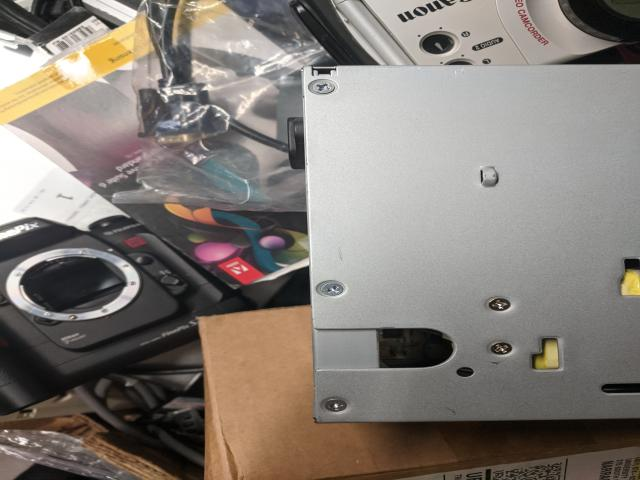CRS: (316, 281, 344, 296), (486, 296, 511, 312), (323, 398, 347, 412), (312, 80, 336, 93), (490, 342, 512, 355)
